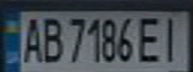1: (84, 15, 103, 63)
6: (115, 15, 139, 63)
7: (63, 15, 84, 63)
8: (100, 15, 121, 63)
A: (18, 13, 45, 64)
B: (39, 13, 66, 64)
E: (136, 13, 163, 64)
I: (157, 14, 187, 63)
